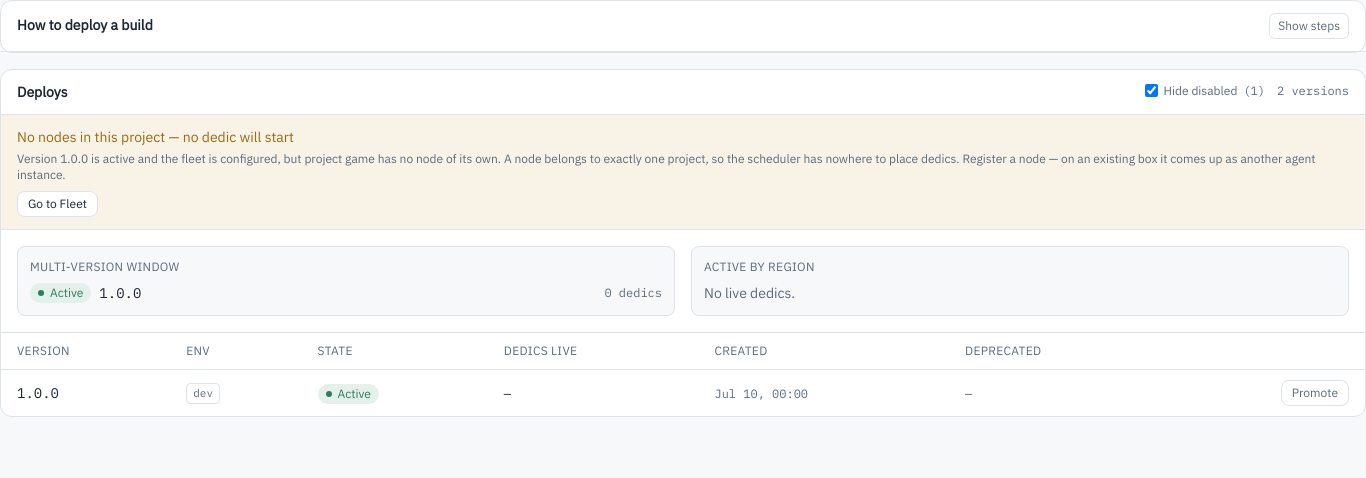
Test: Deploys — дефолт-скрытие disabled (M11) › по умолчанию disabled-версия скрыта; тоггл её показывает
expect the text "0.9.0" is not shown: met
Снимаем «скрывать отключённые» → disabled-версия появляется.
Click the checkbox: coordinates (1151, 90) [1144,84,1158,97]
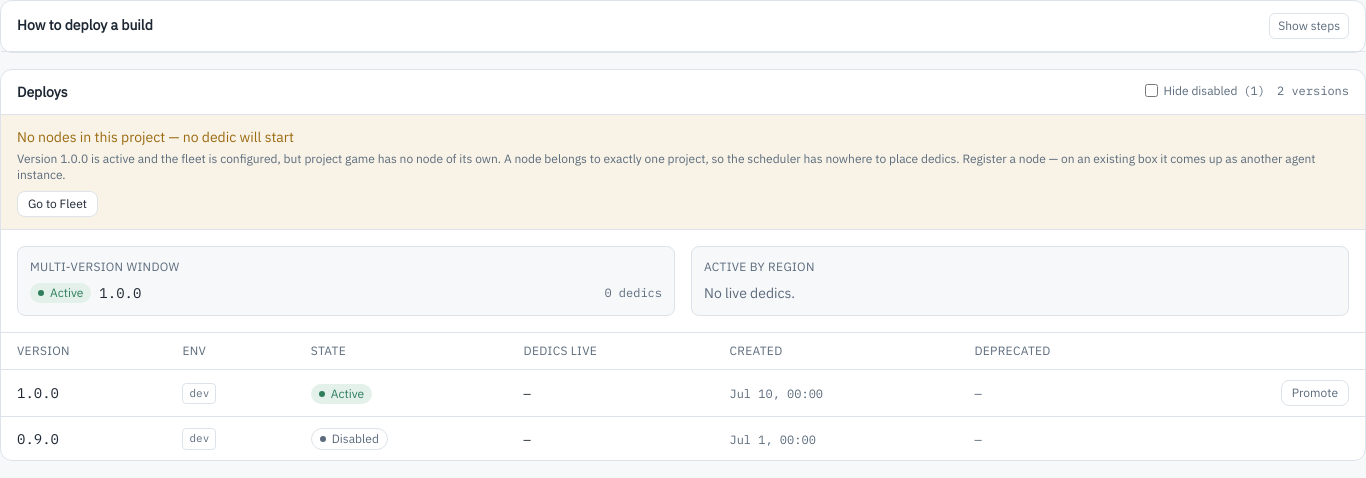
expect the text "0.9.0" is shown: met, box [17,430,59,448]
